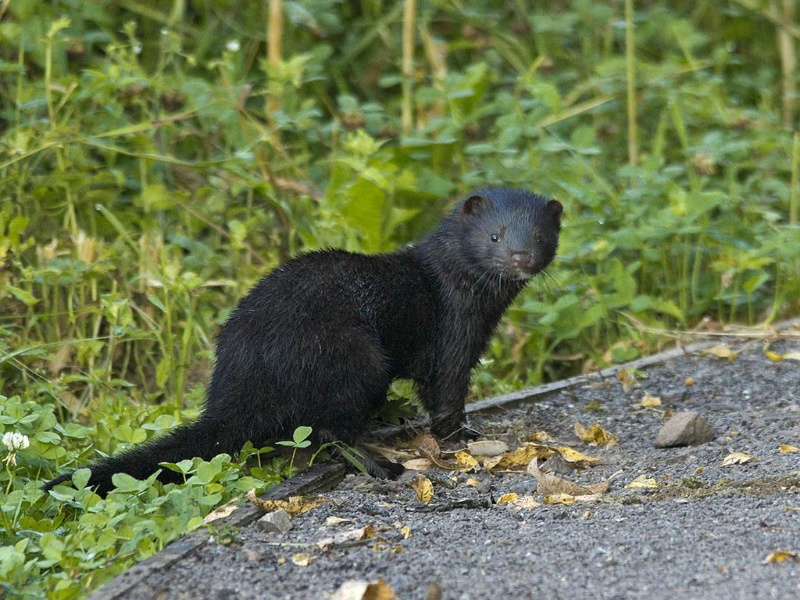minkish: (45, 185, 563, 494)
